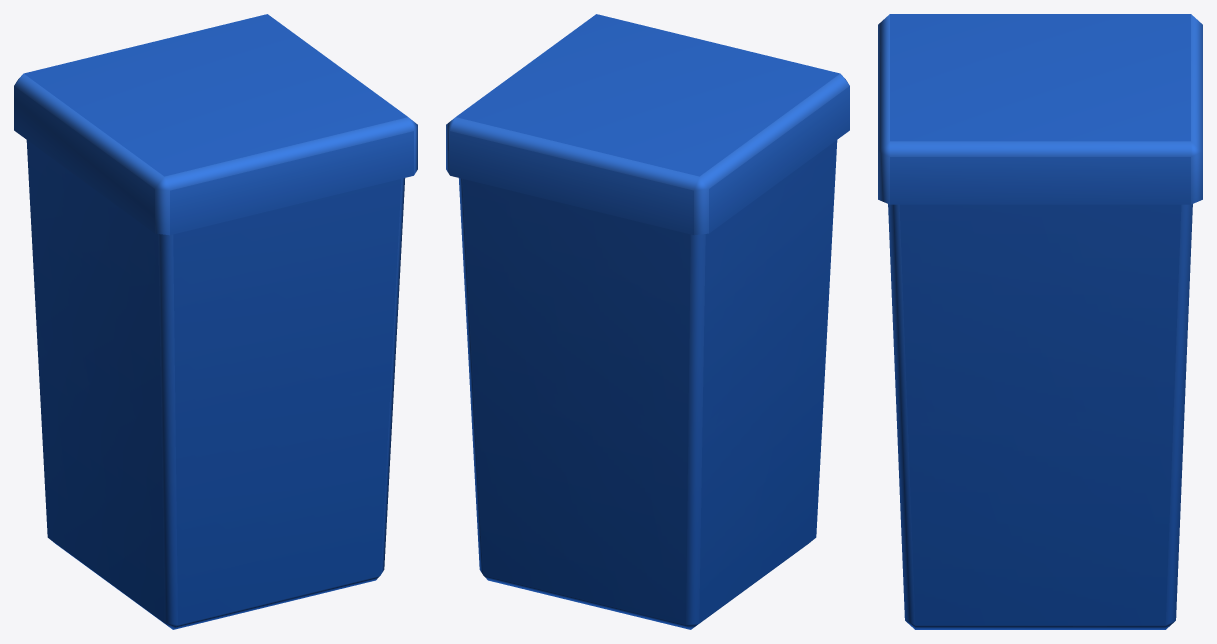
Rendered from giftbox_045.fbx.
3 renders of one model, left to right at view 1: azimuth 30°, elevation 25°; view 2: azimuth 150°, elevation 25°; view 3: azimuth 270°, elevation 25°, orthographic. The views are drawn at different scales.
Visible parts, largest first — view 1: giftbox_045; view 2: giftbox_045; view 3: giftbox_045.
Part boxes in pixels (x1,y1,x2,y2): giftbox_045: [14, 14, 417, 629]; giftbox_045: [446, 14, 849, 629]; giftbox_045: [878, 14, 1202, 629].
Bounding box in the file's own units: 234 × 234 × 397.
